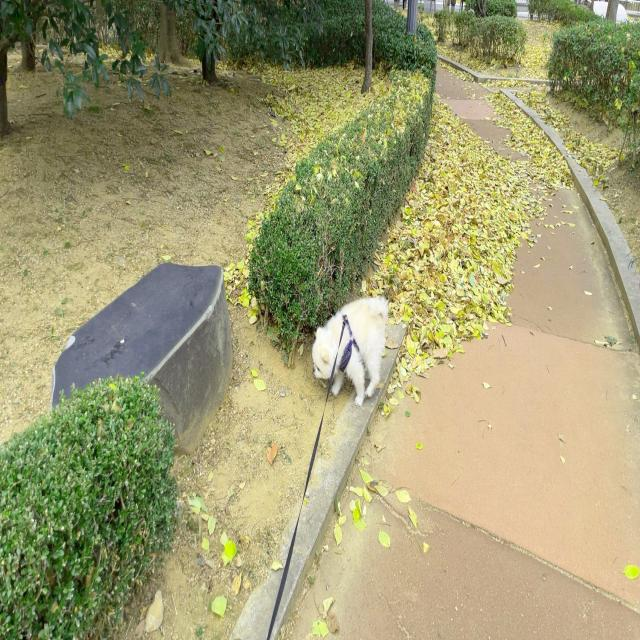Dog: (313, 296, 387, 405)
